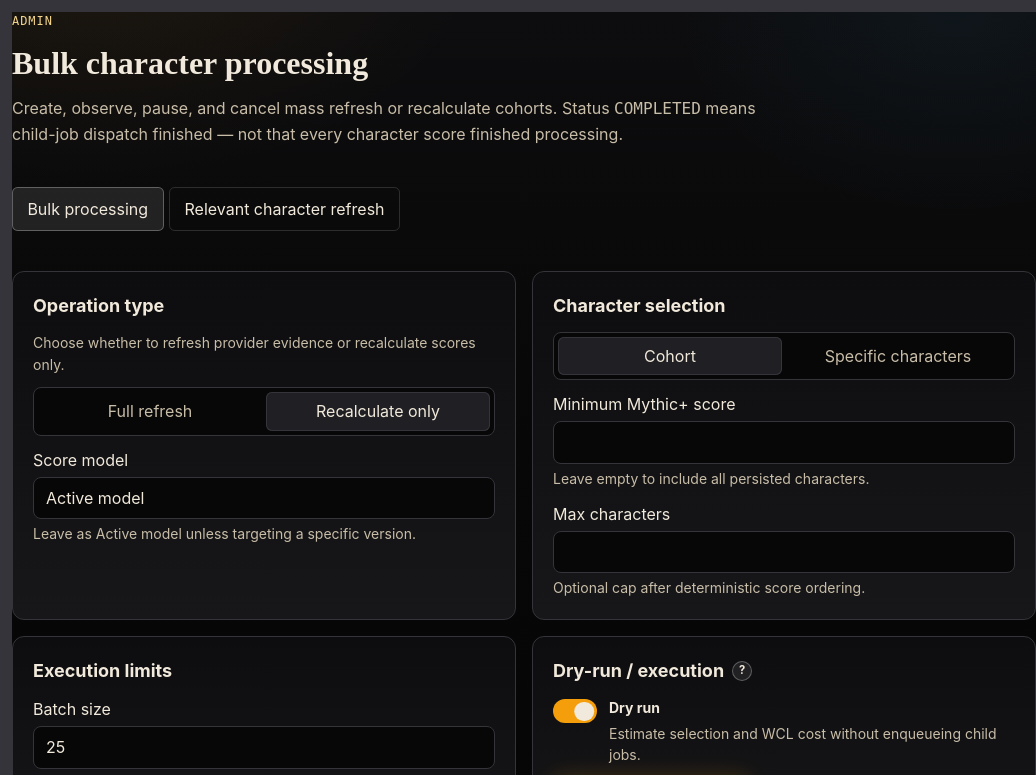
AdminBulkProcessingPage › switches selection mode and hides incompatible controls
Check: the element with test id "bulk-cohort-controls" is shown, box [553,392,1015,599]
Click the button with test id "bulk-selection-explicit". click: (898, 356)
box: [786,337,1010,376]
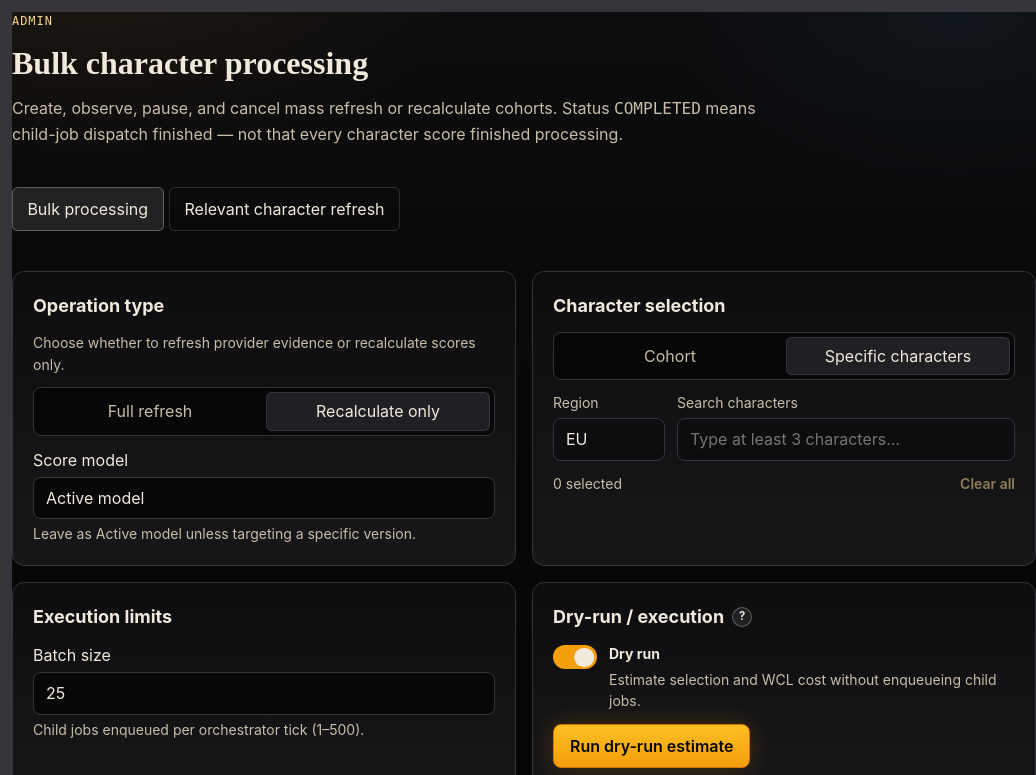
Check: the element with test id "bulk-explicit-controls" is shown, box [553,392,1015,507]
